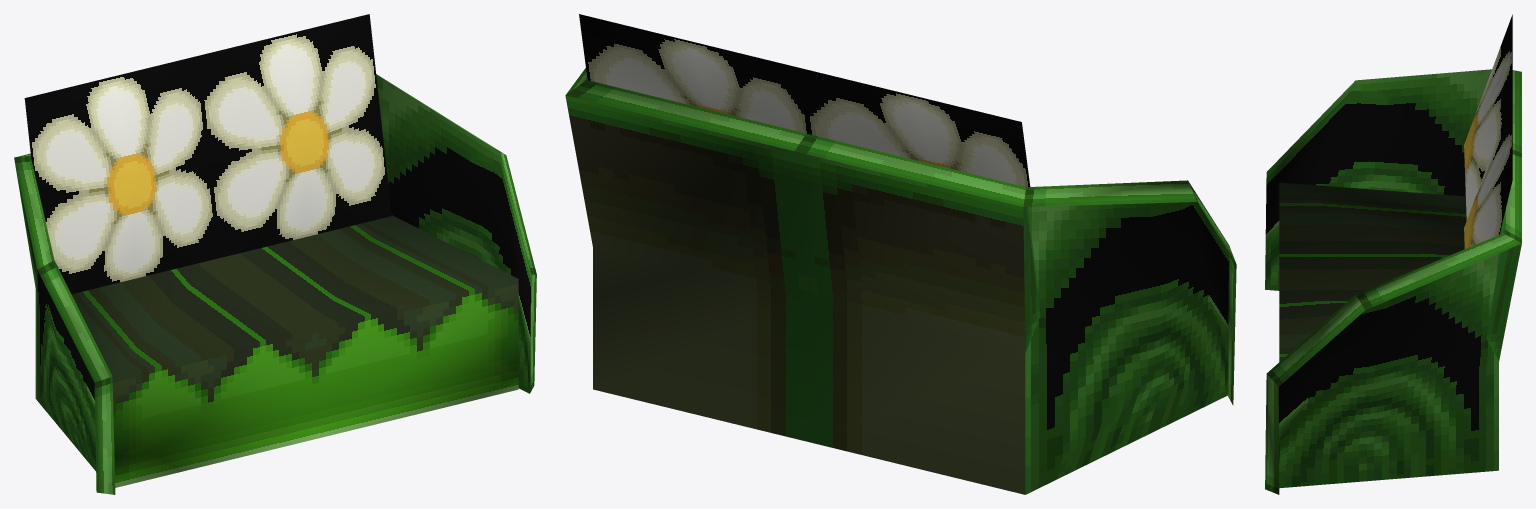
The picture shows the model from 3 angles, left to right: view 1: azimuth 30°, elevation 25°; view 2: azimuth 150°, elevation 25°; view 3: azimuth 270°, elevation 25°; orthographic projection. The views are drawn at different scales.
Visible parts, largest first — view 1: 3193IMFY07_05; view 2: 3193IMFY07_05; view 3: 3193IMFY07_05.
Boxes of the visible parts, x1,y1,x2,y2 form: 3193IMFY07_05: [14, 14, 536, 494]; 3193IMFY07_05: [565, 14, 1236, 494]; 3193IMFY07_05: [1265, 14, 1521, 494].
Size of the model in its own units: 1.95 by 1.18 by 0.938.
4 materials, 4 textured.
